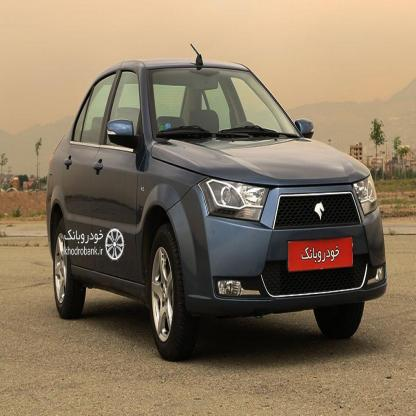Car: (45, 59, 392, 354)
